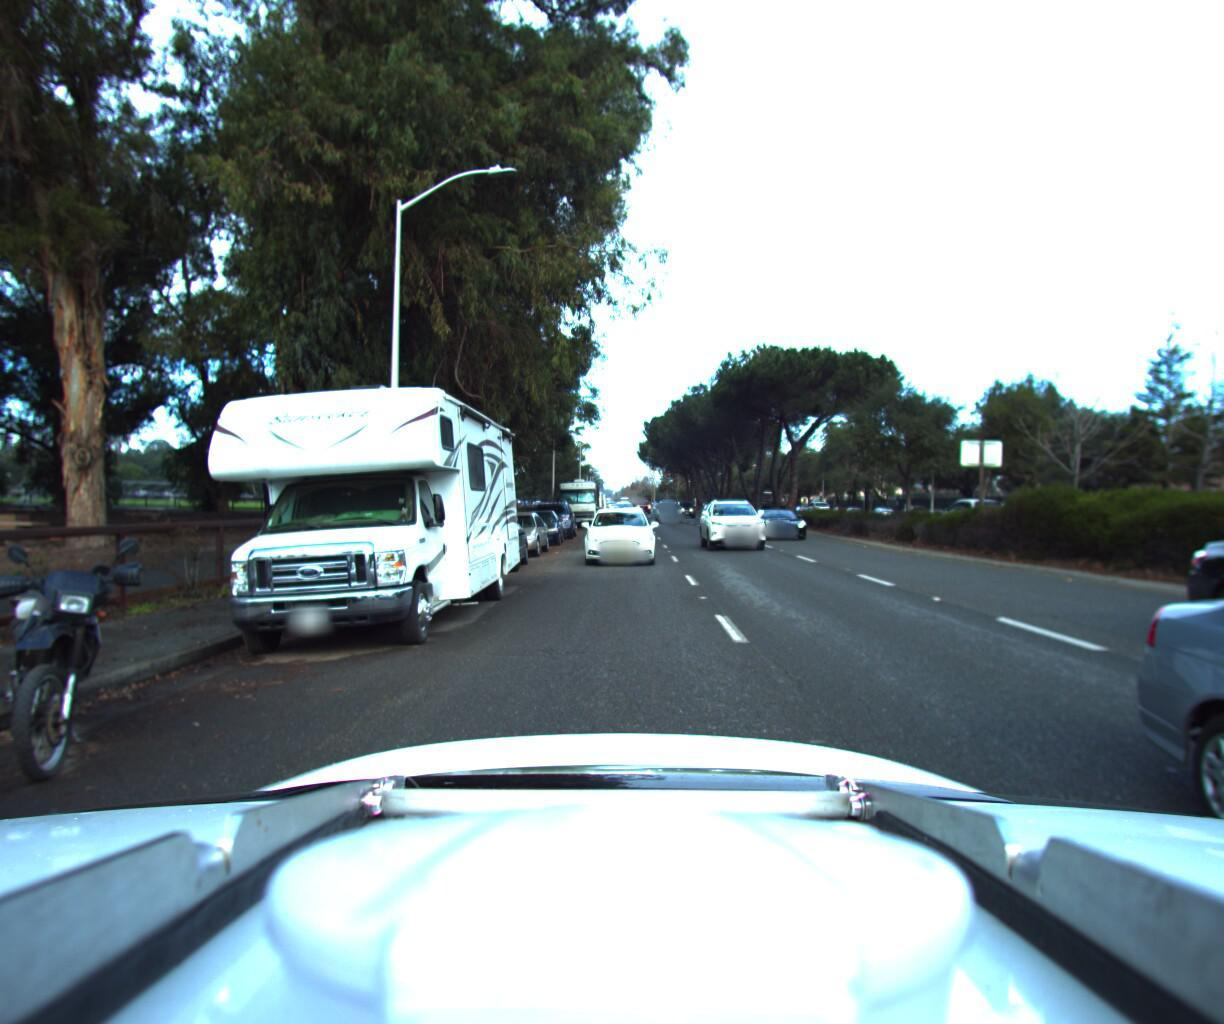car: (436, 506, 532, 576), (576, 501, 659, 564), (698, 494, 786, 551), (473, 504, 551, 555), (524, 492, 578, 535), (509, 501, 564, 542), (758, 500, 815, 533), (654, 492, 684, 520), (675, 494, 697, 511)
motorcycle: (0, 523, 146, 812)
other_vehicle: (140, 346, 524, 670), (553, 471, 599, 521), (573, 483, 604, 514)
truck: (747, 486, 795, 510)
